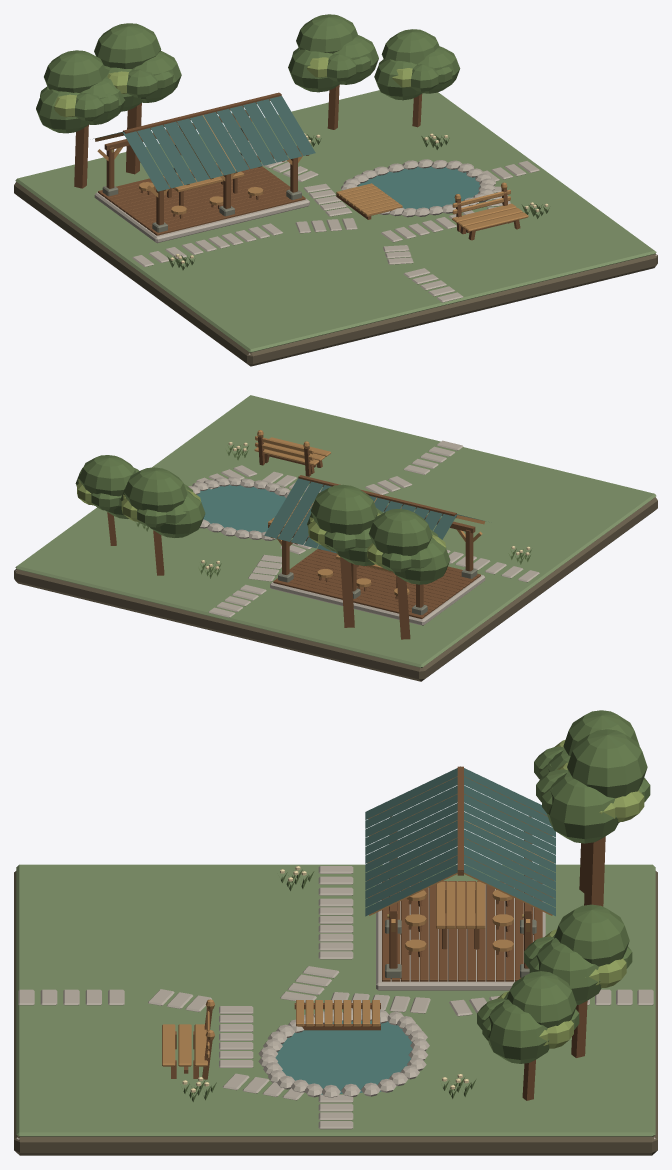
The model's file is commons-scene.glb.
The picture shows the model from 3 angles, top to bottom: view 1: azimuth 30°, elevation 25°; view 2: azimuth 150°, elevation 25°; view 3: azimuth 270°, elevation 25°; orthographic projection. The views are drawn at different scales.
Visible parts, largest first — view 1: runtime_sage lawn, runtime_grove olive, runtime_aged oak, runtime_weathered green roof, runtime_warm limestone, runtime_island earth, runtime_oak endgrain, runtime_pond jade, runtime_grove new growth, runtime_stone seams; view 2: runtime_sage lawn, runtime_grove olive, runtime_island earth, runtime_aged oak, runtime_warm limestone, runtime_weathered green roof, runtime_pond jade, runtime_oak endgrain, runtime_grove new growth, runtime_stone seams; view 3: runtime_sage lawn, runtime_grove olive, runtime_warm limestone, runtime_weathered green roof, runtime_aged oak, runtime_island earth, runtime_oak endgrain, runtime_pond jade, runtime_grove new growth.
Boxes of the visible parts, <box> form: runtime_sage lawn: <box>15,90,656,352</box>; runtime_grove olive: <box>36,14,549,270</box>; runtime_aged oak: <box>74,85,520,240</box>; runtime_weathered green roof: <box>93,96,315,191</box>; runtime_warm limestone: <box>94,126,656,354</box>; runtime_island earth: <box>14,182,657,366</box>; runtime_oak endgrain: <box>95,115,528,231</box>; runtime_pond jade: <box>357,166,479,209</box>; runtime_grove new growth: <box>54,57,412,117</box>; runtime_stone seams: <box>102,153,301,232</box>; runtime_sage lawn: <box>15,395,656,667</box>; runtime_grove olive: <box>75,445,531,584</box>; runtime_island earth: <box>14,497,657,681</box>; runtime_aged oak: <box>107,435,480,639</box>; runtime_warm limestone: <box>15,440,656,625</box>; runtime_weathered green roof: <box>264,478,485,553</box>; runtime_pond jade: <box>197,485,285,532</box>; runtime_oak endgrain: <box>254,430,484,595</box>; runtime_grove new growth: <box>77,479,446,566</box>; runtime_stone seams: <box>278,568,477,614</box>; runtime_sage lawn: <box>16,864,655,1136</box>; runtime_grove olive: <box>182,710,650,1101</box>; runtime_warm limestone: <box>16,866,655,1139</box>; runtime_weathered green roof: <box>365,766,555,916</box>; runtime_aged oak: <box>171,766,605,1100</box>; runtime_island earth: <box>14,871,657,1155</box>; runtime_oak endgrain: <box>162,776,553,1066</box>; runtime_pond jade: <box>275,1020,412,1094</box>; runtime_grove new growth: <box>497,740,644,1048</box>.
Bounding box in the file's own units: 25.8 × 9.53 × 25.8.
